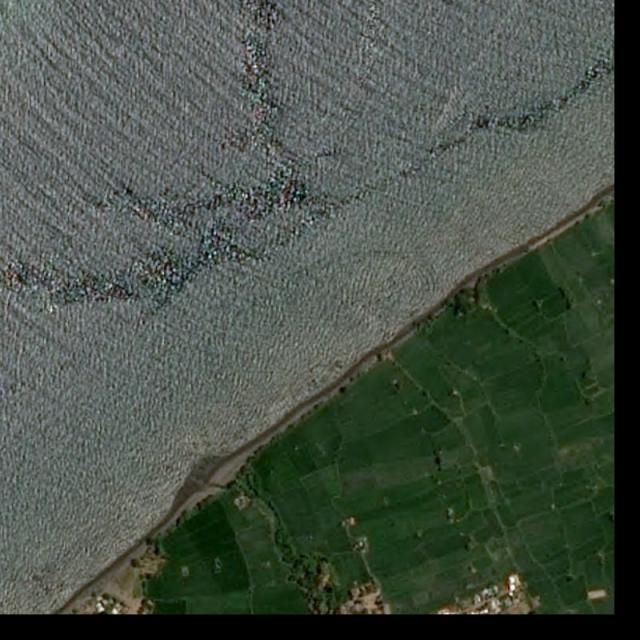ship: (427, 139, 434, 147)
